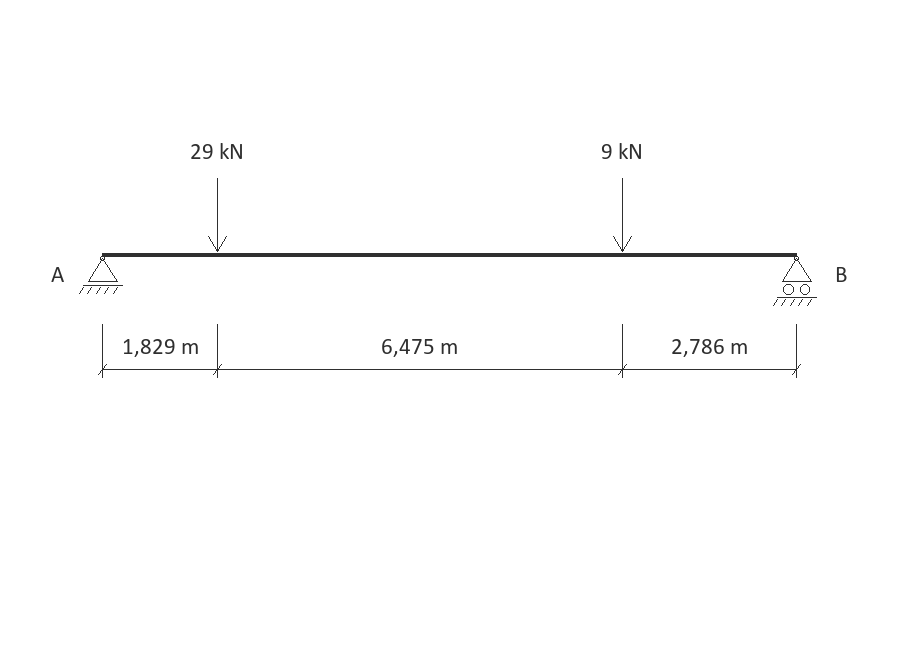pin_support: (79, 256, 123, 294)
point_load: (208, 178, 227, 252), (613, 178, 632, 252)
roller_support: (773, 256, 817, 306)
